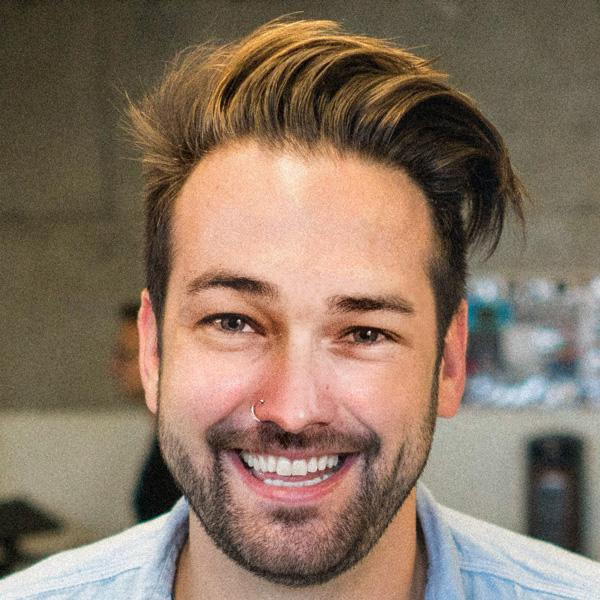Eyes: (193, 296, 273, 350), (324, 309, 405, 362)
